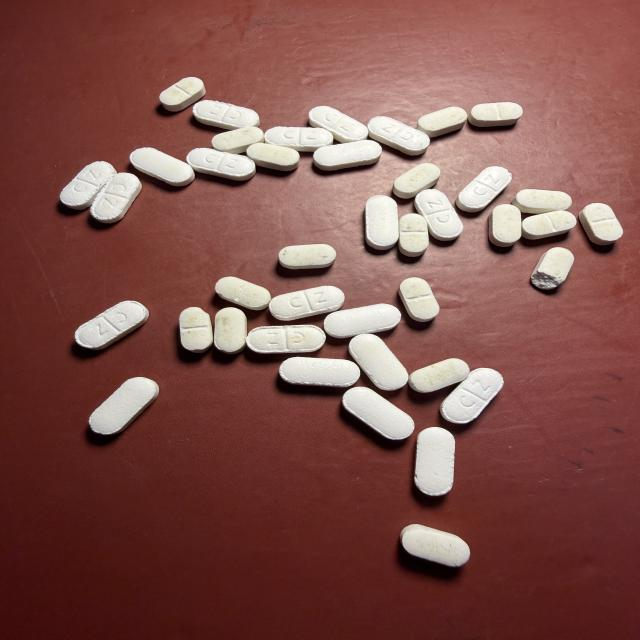pill: (89, 377, 159, 435), (343, 387, 414, 439), (75, 301, 148, 349), (440, 368, 503, 423), (349, 334, 408, 390), (400, 524, 470, 567), (415, 427, 455, 496), (60, 161, 116, 209), (269, 286, 344, 320), (324, 304, 401, 337), (91, 173, 141, 223), (456, 167, 511, 212), (414, 190, 463, 240), (130, 148, 194, 186), (280, 357, 360, 387), (368, 117, 429, 155), (247, 325, 325, 353), (187, 148, 255, 180), (309, 106, 368, 142), (314, 140, 381, 170), (409, 359, 469, 392), (193, 101, 259, 129), (216, 277, 271, 310), (579, 204, 623, 245), (399, 277, 439, 322), (531, 247, 573, 289), (265, 127, 333, 152), (366, 196, 398, 249), (393, 163, 440, 198), (160, 77, 205, 111), (522, 211, 576, 239), (180, 307, 213, 352), (418, 107, 467, 137), (247, 143, 299, 171), (214, 308, 246, 353), (279, 244, 336, 269), (512, 190, 571, 213), (212, 127, 263, 153), (489, 205, 521, 246), (469, 102, 522, 126), (399, 214, 428, 256)
